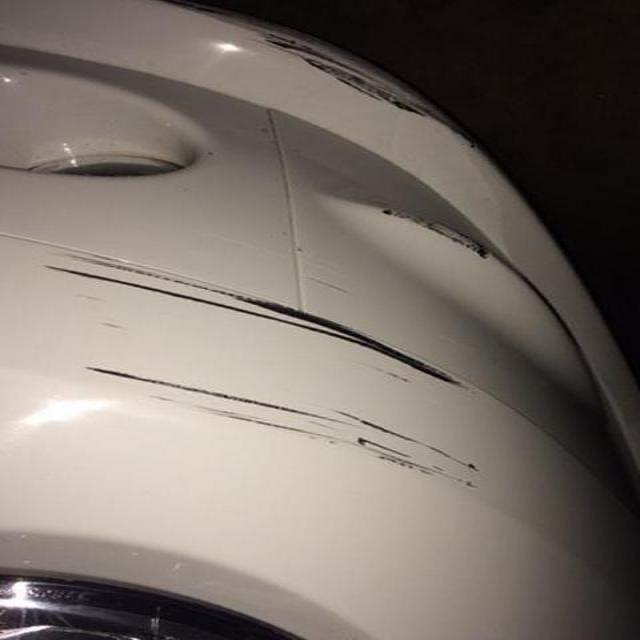scratch: (14, 229, 484, 502), (242, 17, 474, 146), (359, 196, 533, 294)
